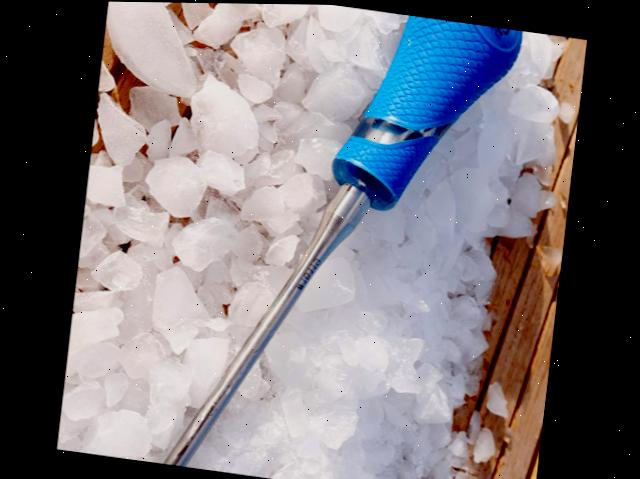ice pick: (130, 2, 558, 479)
